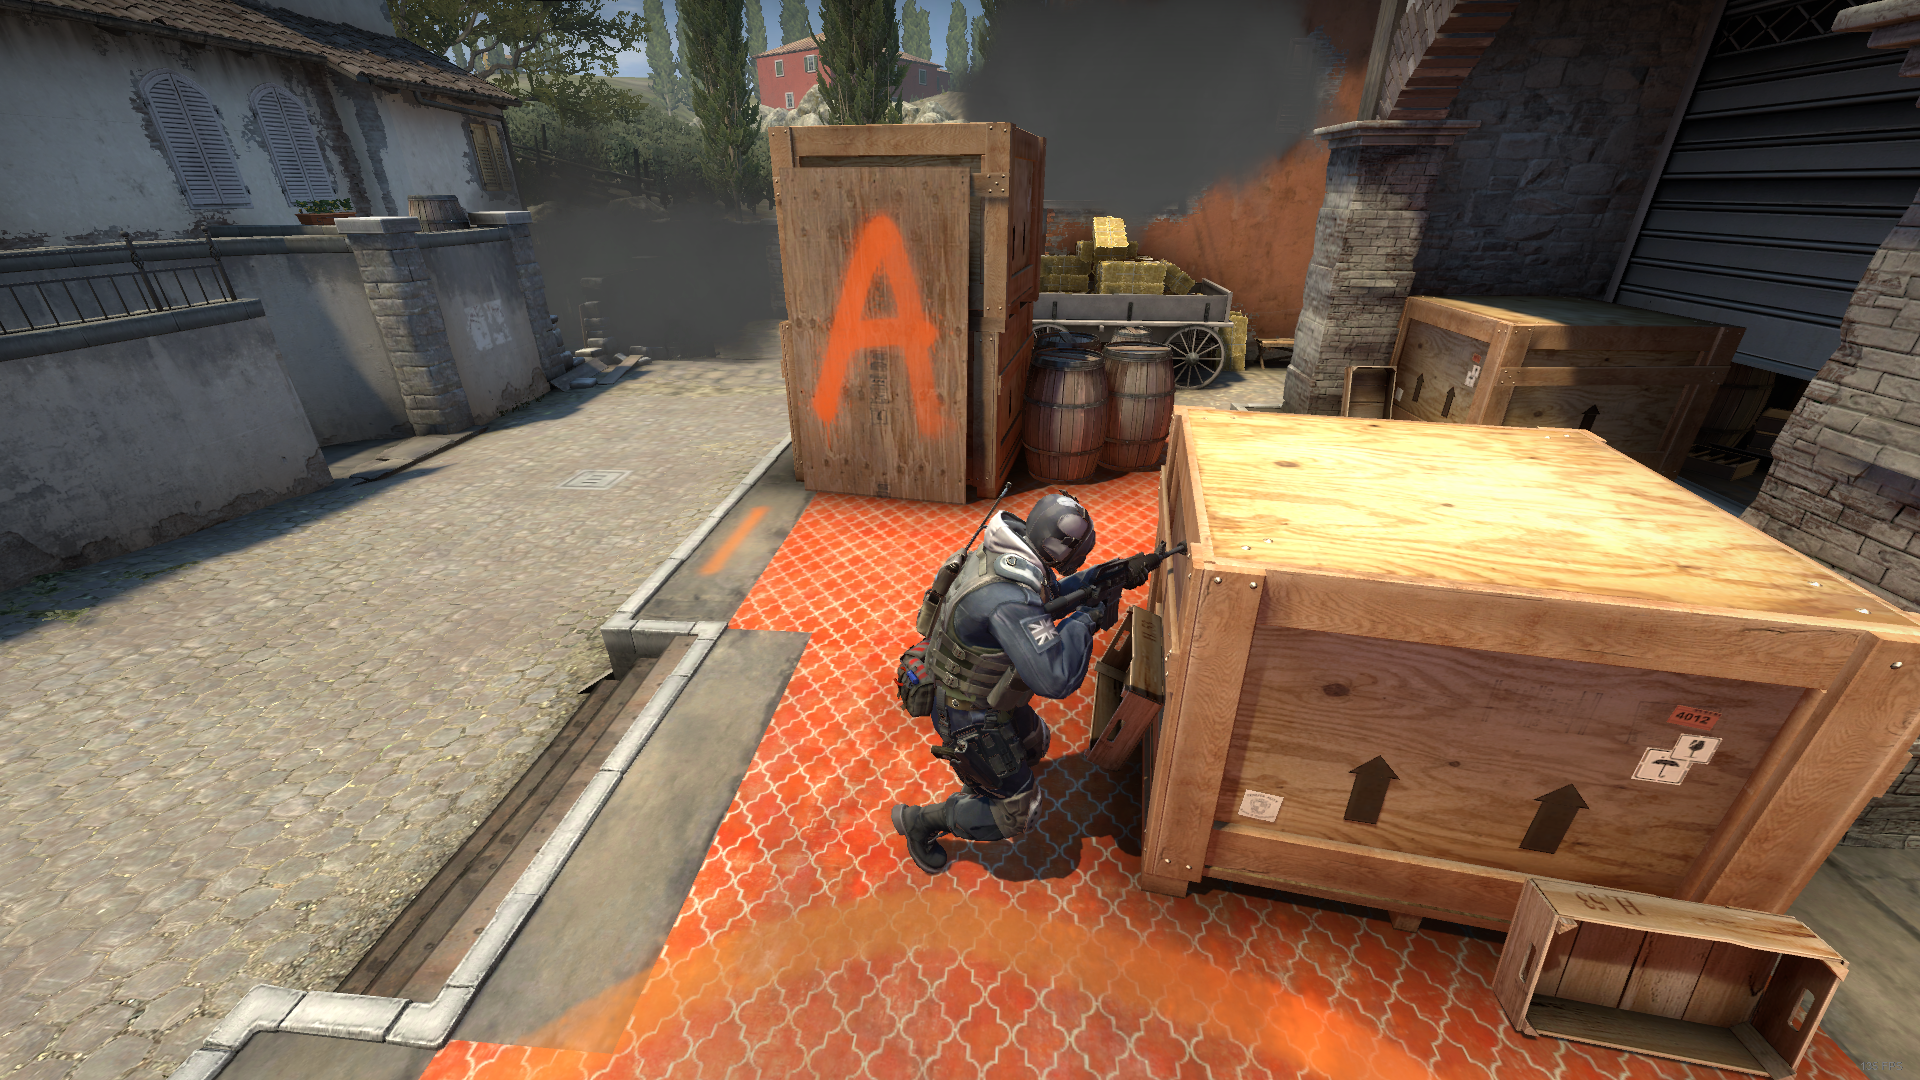ct: (891, 491, 1105, 874)
